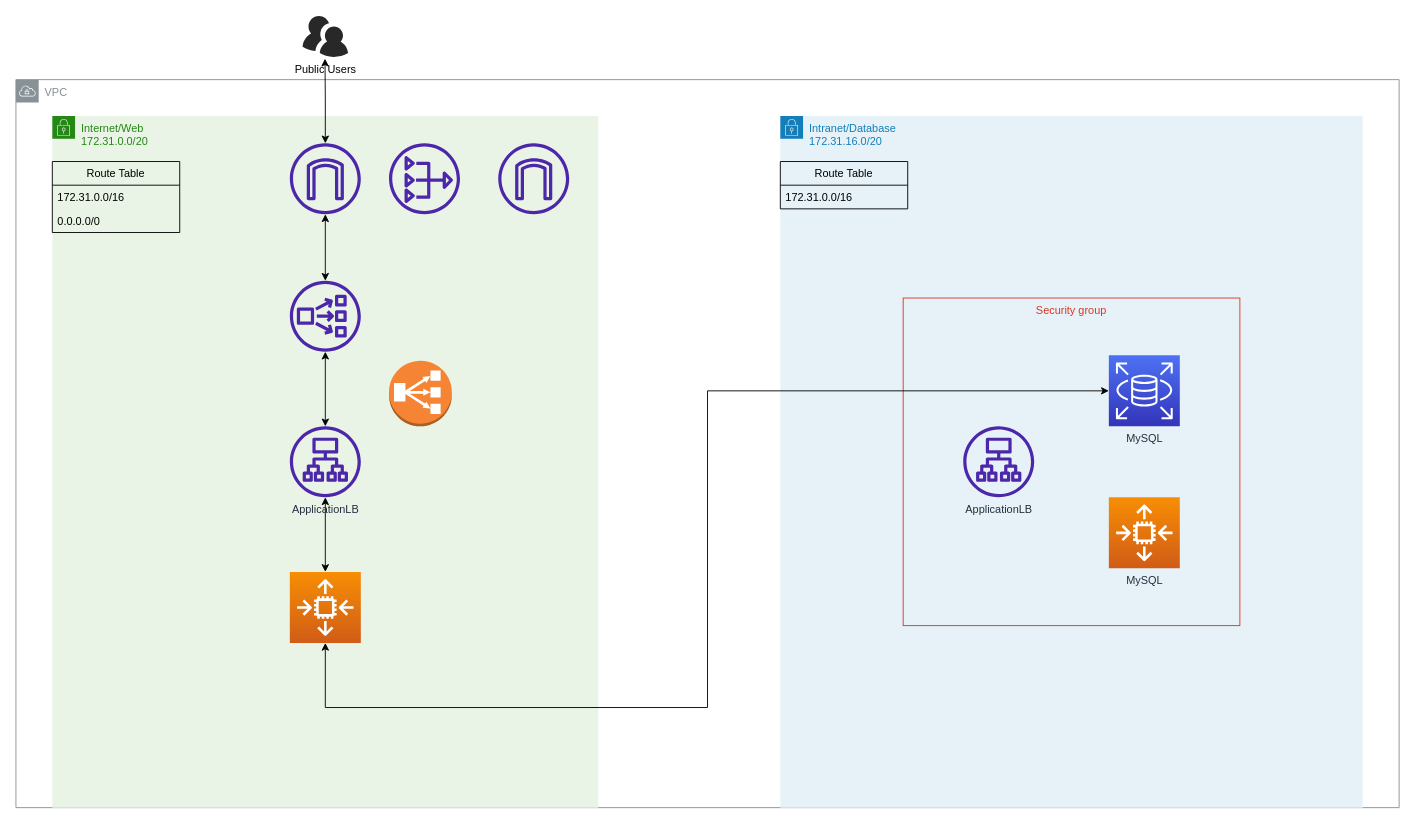
Image size: 1415x824. Some labels were removed from this diagram. Here are the shapes that lost their labels. From the top down, the centre of each, then its label:
the point at 324,178: Internet Gateway
the point at 424,178: NAT Gateway
the point at 533,178: Egress-only Gateway
the point at 324,315: NetworkLB
the point at 420,393: ClassicLB
the point at 325,607: Application NodeJS Autoscale
